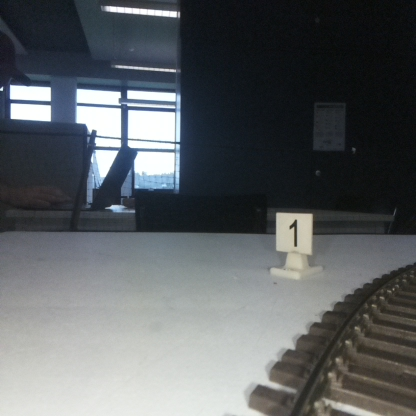white-stop-1: (276, 212, 312, 277)
